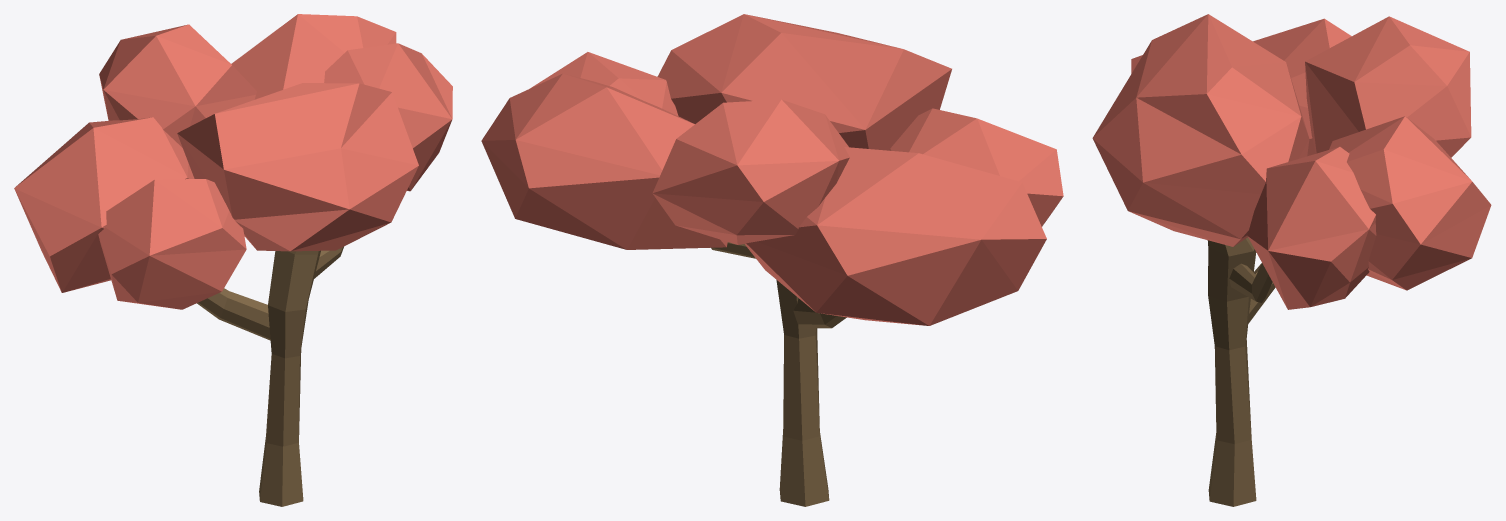
The model's file is Tree_3.fbx.
3 renders of one model, left to right at view 1: azimuth 30°, elevation 25°; view 2: azimuth 150°, elevation 25°; view 3: azimuth 270°, elevation 25°, orthographic. The views are drawn at different scales.
Visible parts, largest first — view 1: Tree_3; view 2: Tree_3; view 3: Tree_3.
Part boxes in pixels (x1,y1,x2,y2): Tree_3: (14, 14, 452, 506); Tree_3: (481, 14, 1063, 506); Tree_3: (1092, 14, 1491, 506).
Size of the model in its own units: 296 by 269 by 215.
